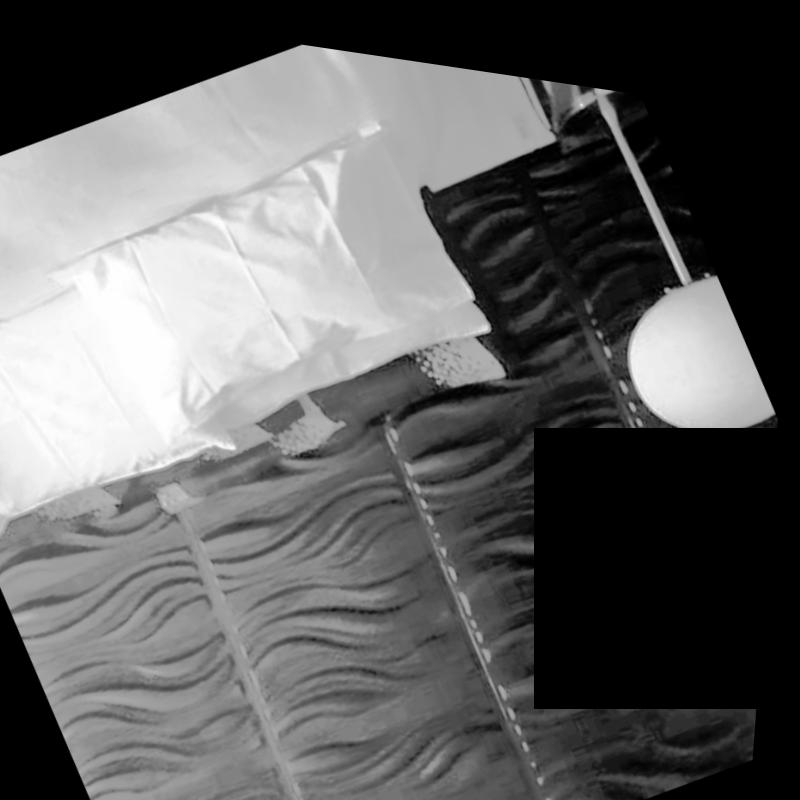pillow: (36, 68, 498, 498), (150, 282, 512, 544), (0, 339, 333, 600), (0, 236, 239, 567), (211, 238, 499, 452)
